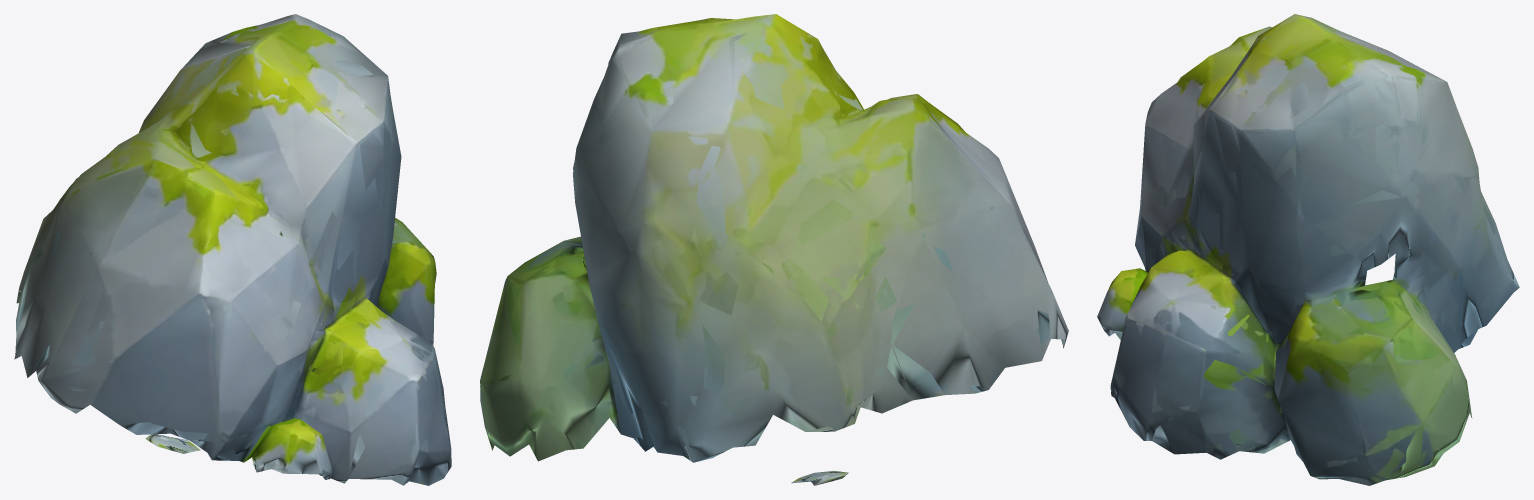
File: rock_darkwood.glb
The picture shows the model from 3 angles, left to right: view 1: azimuth 30°, elevation 25°; view 2: azimuth 150°, elevation 25°; view 3: azimuth 270°, elevation 25°; orthographic projection. The views are drawn at different scales.
Visible parts, largest first — view 1: BakeLow; view 2: BakeLow; view 3: BakeLow.
Part boxes in pixels (left/top/right/bottom): BakeLow: left=14, top=14, right=451, bottom=485; BakeLow: left=480, top=14, right=1068, bottom=485; BakeLow: left=1097, top=14, right=1519, bottom=485.
Size of the model in its own units: 0.9279 by 0.789 by 0.7953.
1 material, 1 textured.
